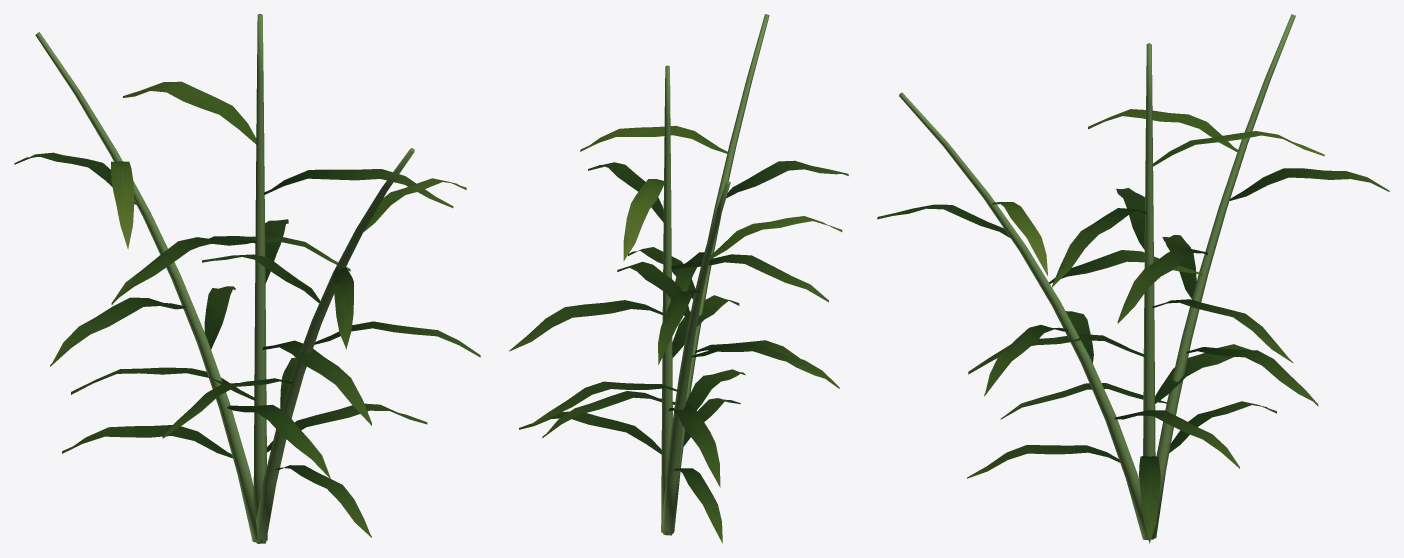
Rendered from lavender-06-lod.glb.
The picture shows the model from 3 angles, left to right: view 1: azimuth 30°, elevation 25°; view 2: azimuth 150°, elevation 25°; view 3: azimuth 270°, elevation 25°; orthographic projection. The views are drawn at different scales.
Visible parts, largest first — view 1: lavender_stage_06_leaf_veins.011, lavender_stage_06_stem_fibres.011, lavender_stage_06_young_leaf.011; view 2: lavender_stage_06_leaf_veins.011, lavender_stage_06_stem_fibres.011, lavender_stage_06_young_leaf.011; view 3: lavender_stage_06_leaf_veins.011, lavender_stage_06_stem_fibres.011, lavender_stage_06_young_leaf.011.
Boxes of the visible parts, bbox=[...] form: lavender_stage_06_leaf_veins.011: bbox=[14, 152, 480, 537]; lavender_stage_06_stem_fibres.011: bbox=[35, 14, 414, 543]; lavender_stage_06_young_leaf.011: bbox=[111, 81, 466, 249]; lavender_stage_06_leaf_veins.011: bbox=[509, 160, 848, 543]; lavender_stage_06_stem_fibres.011: bbox=[661, 14, 769, 535]; lavender_stage_06_young_leaf.011: bbox=[580, 125, 842, 260]; lavender_stage_06_leaf_veins.011: bbox=[877, 168, 1389, 543]; lavender_stage_06_stem_fibres.011: bbox=[899, 14, 1295, 539]; lavender_stage_06_young_leaf.011: bbox=[992, 109, 1324, 275].
Bounding box in the file's own units: 0.225 × 0.3063 × 0.2879.
3 materials, 2 textured.
